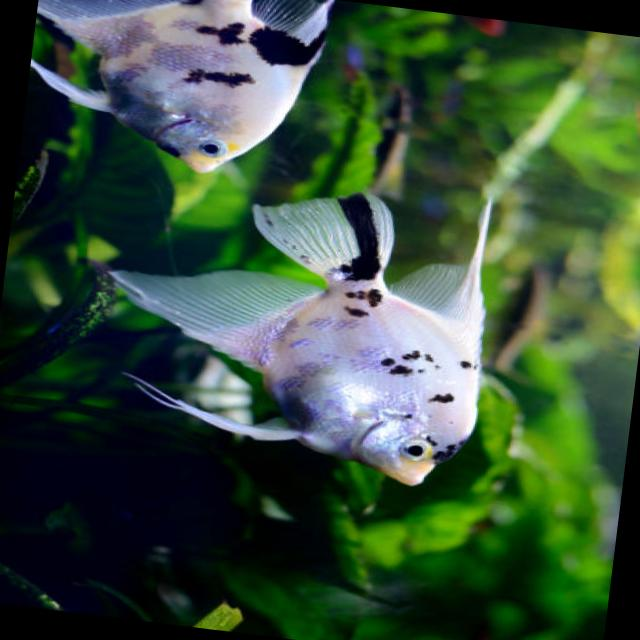AngelFish: (74, 157, 504, 493), (18, 0, 353, 189)
